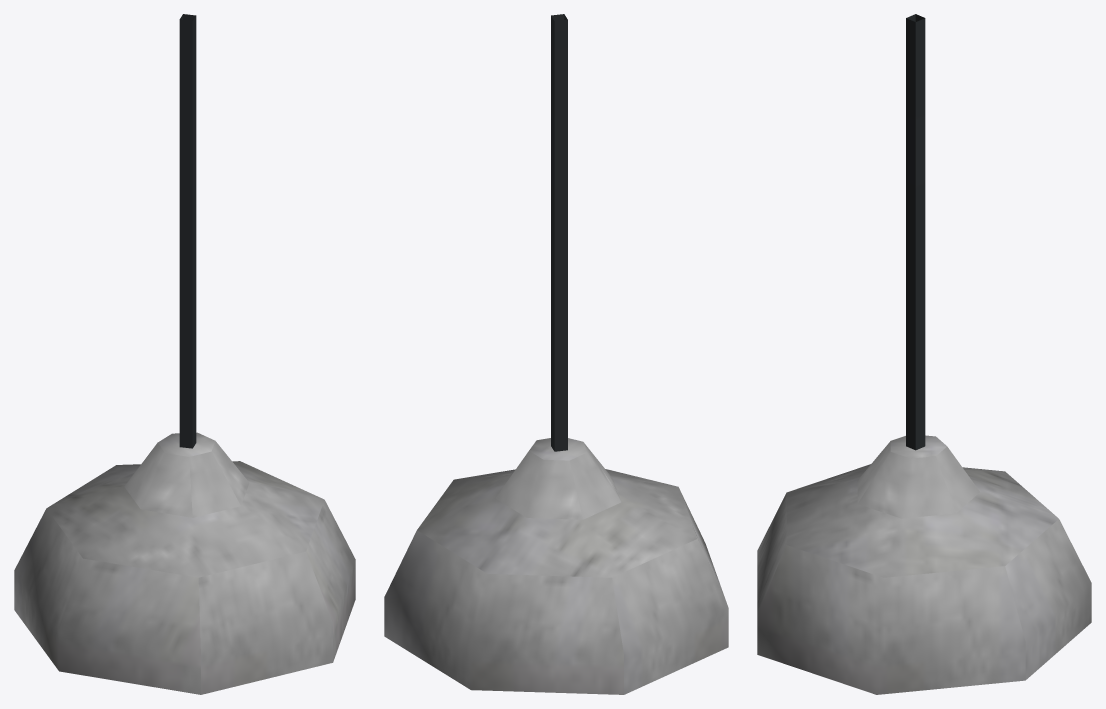
The model's file is LightsType2.glb.
3 renders of one model, left to right at view 1: azimuth 30°, elevation 25°; view 2: azimuth 150°, elevation 25°; view 3: azimuth 270°, elevation 25°, orthographic.
Visible parts, largest first — view 1: Lights_02; view 2: Lights_02; view 3: Lights_02.
Part boxes in pixels (x1,y1,x2,y2): Lights_02: [14, 14, 355, 694]; Lights_02: [384, 14, 728, 694]; Lights_02: [757, 14, 1091, 694].
Bounding box in the file's own units: 0.7914 × 1.54 × 0.7715.
3 materials, 2 textured.
